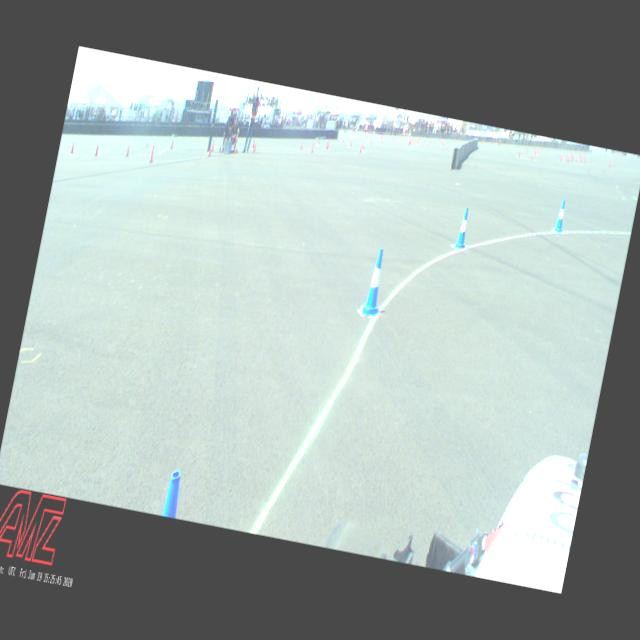blue_cone: (361, 247, 392, 317), (162, 470, 185, 518), (454, 207, 473, 250), (554, 198, 570, 234)
